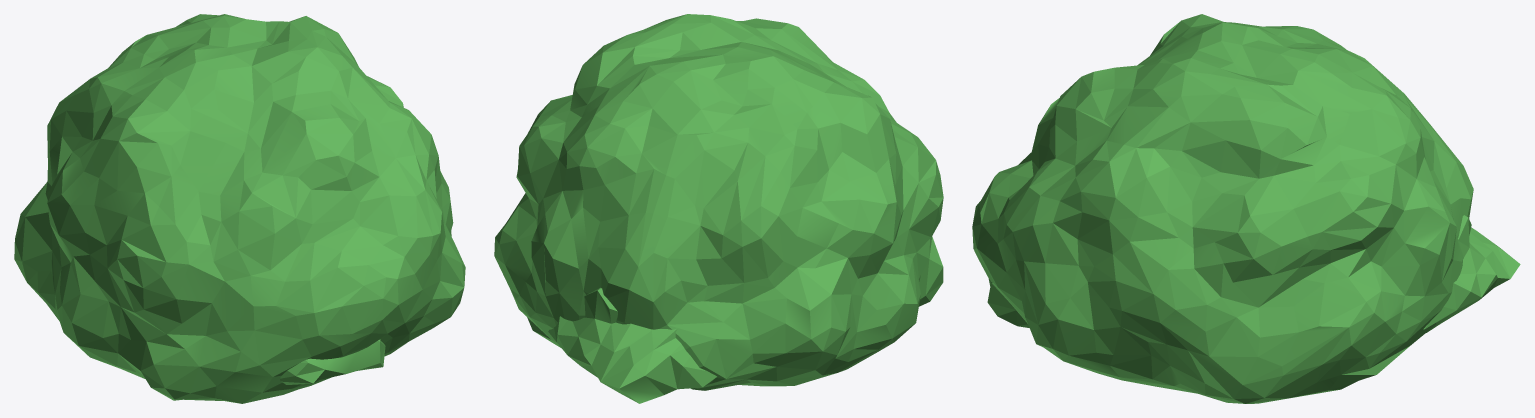
File: Bushes.fbx
The picture shows the model from 3 angles, left to right: view 1: azimuth 30°, elevation 25°; view 2: azimuth 150°, elevation 25°; view 3: azimuth 270°, elevation 25°; orthographic projection. The views are drawn at different scales.
Parts seen in each view (by area): view 1: Big_Bush, Long_Bush; view 2: Big_Bush, Long_Bush; view 3: Big_Bush, Long_Bush.
Boxes of the visible parts, x1=… form: Big_Bush: x1=14, y1=14, x2=465, y2=403; Long_Bush: x1=280, y1=339, x2=385, y2=384; Big_Bush: x1=494, y1=14, x2=943, y2=390; Long_Bush: x1=548, y1=287, x2=717, y2=403; Big_Bush: x1=972, y1=14, x2=1473, y2=403; Long_Bush: x1=987, y1=215, x2=1520, y2=332.
Bounding box in the file's own units: 24.38 × 18.51 × 30.46.
